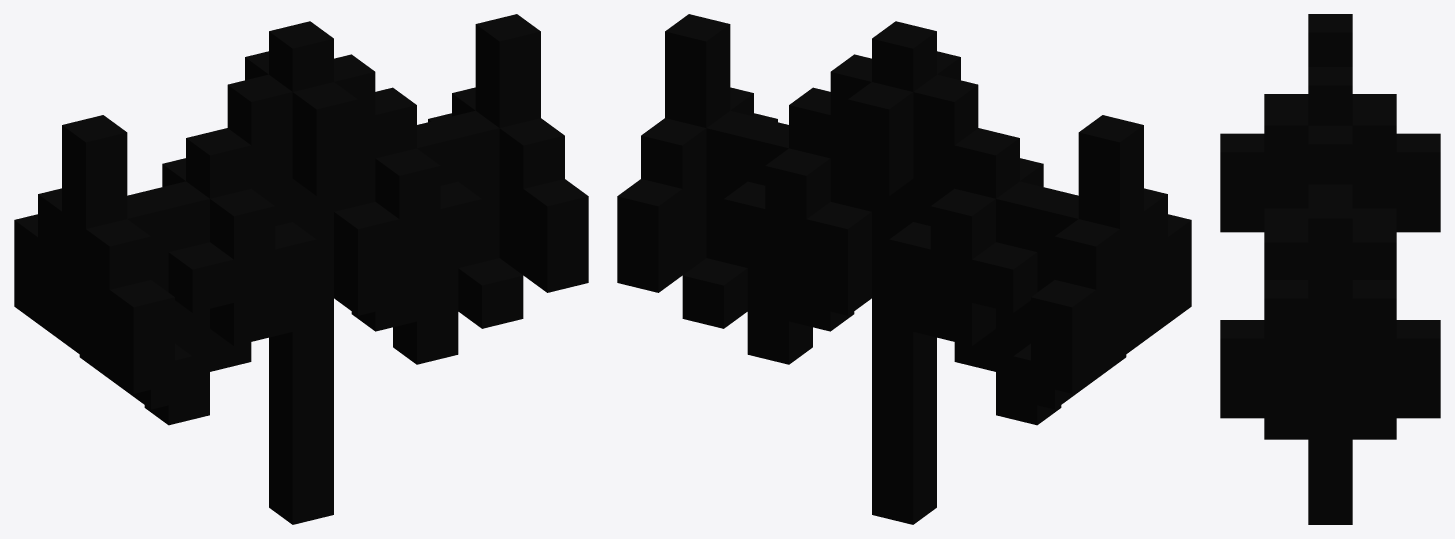
File: Galaxian.obj
3 views of the same model, side by side, from view 1: azimuth 30°, elevation 25°; view 2: azimuth 150°, elevation 25°; view 3: azimuth 270°, elevation 25° (orthographic). The views are drawn at different scales.
Parts seen in each view (by area): view 1: Galaxian; view 2: Galaxian; view 3: Galaxian.
Boxes of the visible parts, x1,y1,x2,y2 form: Galaxian: [14, 14, 588, 524]; Galaxian: [617, 14, 1191, 524]; Galaxian: [1220, 14, 1440, 524].
Size of the model in its own units: 1.1 by 1.1 by 0.5.
